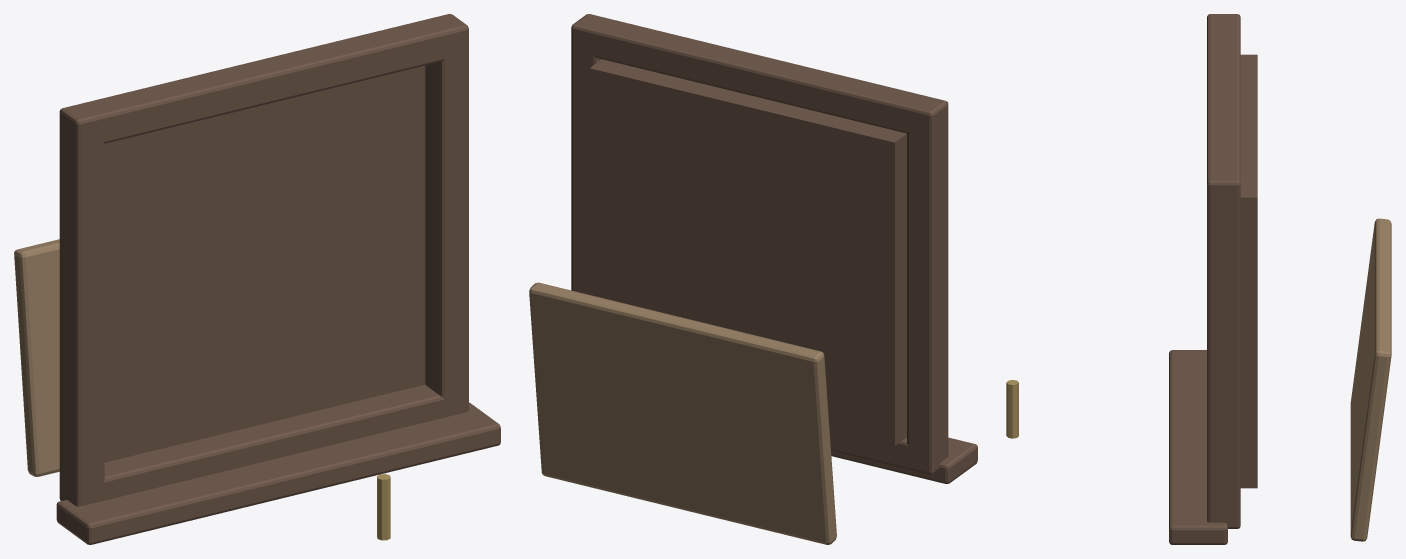
The picture shows the model from 3 angles, left to right: view 1: azimuth 30°, elevation 25°; view 2: azimuth 150°, elevation 25°; view 3: azimuth 270°, elevation 25°; orthographic projection. The views are drawn at different scales.
Parts seen in each view (by area): view 1: dumbWaiterDoor; view 2: dumbWaiterDoor; view 3: dumbWaiterDoor.
Part boxes in pixels (<box>): dumbWaiterDoor: <box>14,14,500,544</box>; dumbWaiterDoor: <box>529,14,977,544</box>; dumbWaiterDoor: <box>1006,14,1391,544</box>.
Size of the model in its own units: 1 by 0.9882 by 0.9121.
